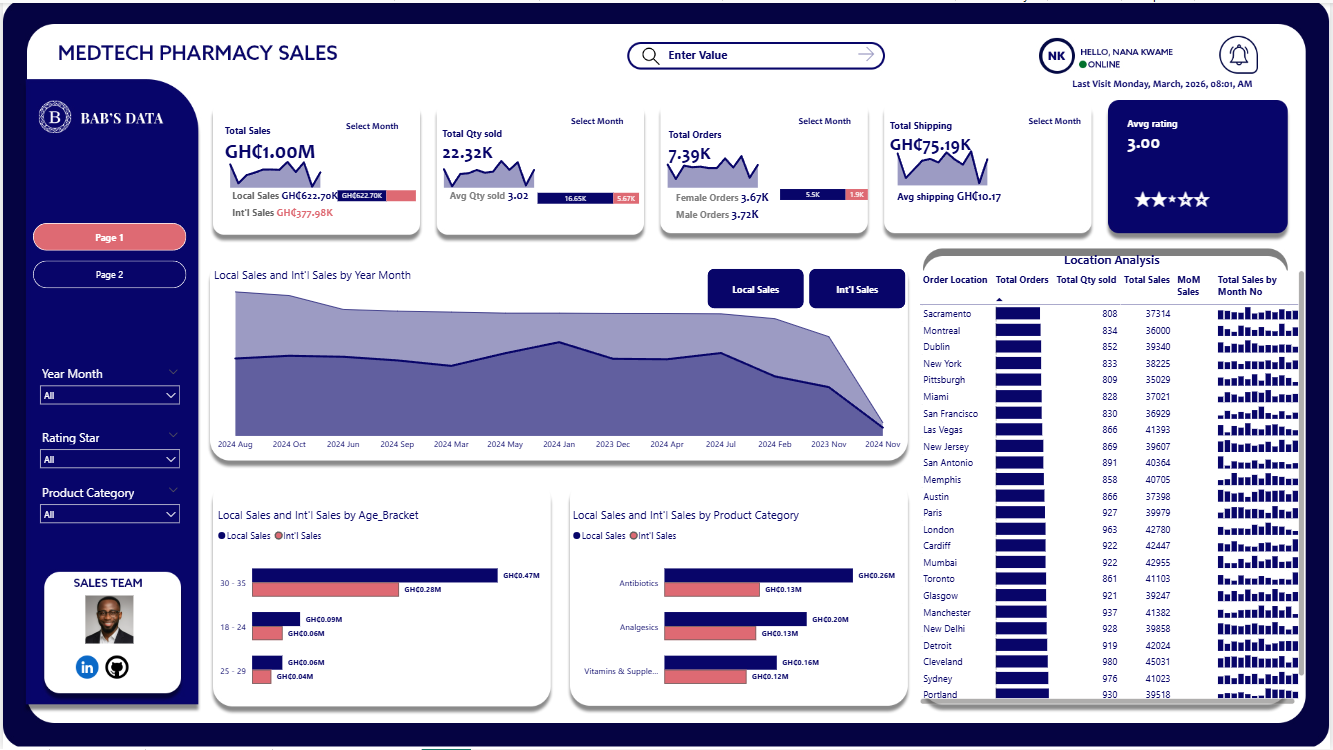

The dashboard page shown, as its layout file describes it:
{"tool":"powerbi","page":{"name":"Page 1","canvas":[1920,1080],"ordinal":0},"visuals":[{"type":"areaChart","fields":{"Y":["Analysis.Local Sales","Analysis.Int'l Sales"],"Category":["Date_Table.Year Month"]},"box":[300.4,381.8,1009.8,275.1],"z":0},{"type":"cardVisual","fields":{"Data":["Analysis.Total Qty sold"]},"box":[618.6,161.4,314.3,191.4],"z":1000},{"type":"cardVisual","fields":{"Data":["Analysis.Total Sales"]},"box":[304.3,161.4,314.3,191.4],"z":2000},{"type":"cardVisual","fields":{"Data":["Analysis.Total Orders"]},"box":[946,162,314,190],"z":3000},{"type":"cardVisual","fields":{"Data":["Analysis.Total Shipping"]},"box":[1267.5,150,315,190],"z":4000},{"type":"cardVisual","fields":{"Data":["Analysis.Avvg rating"]},"box":[1610,144,254,194],"z":5000},{"type":"areaChart","fields":{"Category":["Date_Table.Month No"],"Y":["Analysis.Total Sales"]},"box":[302,202,208,70],"z":6000},{"type":"areaChart","fields":{"Category":["Date_Table.Month No"],"Y":["Analysis.Total Qty sold"]},"box":[612,202,208,70],"z":7000},{"type":"areaChart","fields":{"Category":["Date_Table.Month No"],"Y":["Analysis.Total Orders"]},"box":[936,202,208,70],"z":8000},{"type":"areaChart","fields":{"Category":["Date_Table.Month No"],"Y":["Analysis.Total Shipping"]},"box":[1267.9,198.8,207.1,70.2],"z":9000},{"type":"barChart","fields":{"Y":["Analysis.Local Sales","Analysis.Int'l Sales"]},"box":[480,237.5,180,77.5],"z":10000},{"type":"barChart","fields":{"Y":["Analysis.Local Qty","Analysis.Int'l Qty"]},"box":[770,240,207.5,77.5],"z":11000},{"type":"barChart","fields":{"Y":["Analysis.Local Orders","Analysis.Int'l Orders"]},"box":[1120,235,147.5,77.5],"z":12000},{"type":"cardVisual","fields":{"Data":["Analysis.Dynamic Month Text"]},"box":[479.6,150.2,126.7,52.5],"z":13000},{"type":"cardVisual","fields":{"Data":["Analysis.Dynamic Month Text"]},"box":[805.3,143,126.7,52.5],"z":14000},{"type":"cardVisual","fields":{"Data":["Analysis.Dynamic Month Text"]},"box":[1134.7,143,126.7,52.5],"z":15000},{"type":"cardVisual","fields":{"Data":["Analysis.Dynamic Month Text"]},"box":[1467.6,143,126.7,52.5],"z":16000},{"type":"cardVisual","fields":{"Data":["Time_intelligence.MoM Sales"]},"box":[495.8,186.4,110.4,34.4],"z":17000},{"type":"cardVisual","fields":{"Data":["Time_intelligence.MoM Qty sold"]},"box":[821.6,181,112.2,34.4],"z":18000},{"type":"cardVisual","fields":{"Data":["Time_intelligence.MoM Orders"]},"box":[1138.3,181,110.4,34.4],"z":19000},{"type":"cardVisual","fields":{"Data":["Time_intelligence.MoM Shipping"]},"box":[1467.6,182.8,110.4,34.4],"z":20000},{"type":"slicer","fields":{"Values":["Date_Table.Year Month"]},"box":[43.4,519.4,222.6,79.6],"z":21000},{"type":"advancedSlicerVisual","fields":{"Values":["Sale Type.Sale Type"]},"box":[1015,380,297.5,67.5],"z":22000},{"type":"clusteredBarChart","fields":{"Y":["Analysis.Local Sales","Analysis.Int'l Sales"],"Category":["Sales-facts.Age_Bracket"]},"box":[305,730,500,290],"z":23000},{"type":"clusteredBarChart","fields":{"Y":["Analysis.Local Sales","Analysis.Int'l Sales"],"Category":["Products_dim.Product Category"]},"box":[820,730,500,290],"z":24000},{"type":"tableEx","title":"Location Analysis","fields":{"Values":["Location_dim.Order Location","Analysis.Total Orders","Analysis.Total Qty sold","Analysis.Total Sales","Time_intelligence.MoM Sales","SparklineData(Analysis.Total Sales_[Date_Table.Month No])","select"]},"box":[1321.1,360.1,568.2,660.5],"z":25000},{"type":"slicer","fields":{"Values":["Sales-facts.Rating Star"]},"box":[43.4,611.7,222.6,74.2],"z":26000},{"type":"slicer","fields":{"Values":["Products_dim.Product Category"]},"box":[43.4,691.3,222.6,74.2],"z":27000},{"type":"textSlicer","box":[944.8,50.1,331.6,45.3],"z":28000},{"type":"cardVisual","fields":{"Data":["Analysis.Now timestamp"]},"box":[1531.8,74,331.6,69.2],"z":29000},{"type":"pageNavigator","box":[43.4,318.5,222.6,95.9],"z":30000},{"type":"image","box":[117.9,857.1,73.2,69.6],"z":31000},{"type":"image","box":[88.3,945,66.7,33.3],"z":32000},{"type":"image","box":[146.2,943.8,36.2,33.8],"z":33000}]}

Visuals, with their boxes in screenshot pixels (x1, y1, x2, y2), scaled from the page's 1920x1080 canvas onto the 1333x750 screenshot:
areaChart - Analysis.Local Sales x Analysis.Int'l Sales: box(209, 265, 910, 456)
cardVisual - Analysis.Total Qty sold: box(429, 112, 648, 245)
cardVisual - Analysis.Total Sales: box(211, 112, 429, 245)
cardVisual - Analysis.Total Orders: box(657, 112, 875, 244)
cardVisual - Analysis.Total Shipping: box(880, 104, 1099, 236)
cardVisual - Analysis.Avvg rating: box(1118, 100, 1294, 235)
areaChart - Date_Table.Month No x Analysis.Total Sales: box(210, 140, 354, 189)
areaChart - Date_Table.Month No x Analysis.Total Qty sold: box(425, 140, 569, 189)
areaChart - Date_Table.Month No x Analysis.Total Orders: box(650, 140, 794, 189)
areaChart - Date_Table.Month No x Analysis.Total Shipping: box(880, 138, 1024, 187)
barChart - Analysis.Local Sales x Analysis.Int'l Sales: box(333, 165, 458, 219)
barChart - Analysis.Local Qty x Analysis.Int'l Qty: box(535, 167, 679, 220)
barChart - Analysis.Local Orders x Analysis.Int'l Orders: box(778, 163, 880, 217)
cardVisual - Analysis.Dynamic Month Text: box(333, 104, 421, 141)
cardVisual - Analysis.Dynamic Month Text: box(559, 99, 647, 136)
cardVisual - Analysis.Dynamic Month Text: box(788, 99, 876, 136)
cardVisual - Analysis.Dynamic Month Text: box(1019, 99, 1107, 136)
cardVisual - Time_intelligence.MoM Sales: box(344, 129, 421, 153)
cardVisual - Time_intelligence.MoM Qty sold: box(570, 126, 648, 150)
cardVisual - Time_intelligence.MoM Orders: box(790, 126, 867, 150)
cardVisual - Time_intelligence.MoM Shipping: box(1019, 127, 1096, 151)
slicer - Date_Table.Year Month: box(30, 361, 185, 416)
advancedSlicerVisual - Sale Type.Sale Type: box(705, 264, 911, 311)
clusteredBarChart - Analysis.Local Sales x Analysis.Int'l Sales: box(212, 507, 559, 708)
clusteredBarChart - Analysis.Local Sales x Analysis.Int'l Sales: box(569, 507, 916, 708)
"Location Analysis" tableEx: box(917, 250, 1312, 709)
slicer - Sales-facts.Rating Star: box(30, 425, 185, 476)
slicer - Products_dim.Product Category: box(30, 480, 185, 532)
textSlicer: box(656, 35, 886, 66)
cardVisual - Analysis.Now timestamp: box(1063, 51, 1294, 99)
pageNavigator: box(30, 221, 185, 288)
image: box(82, 595, 133, 644)
image: box(61, 656, 108, 679)
image: box(102, 655, 127, 679)
